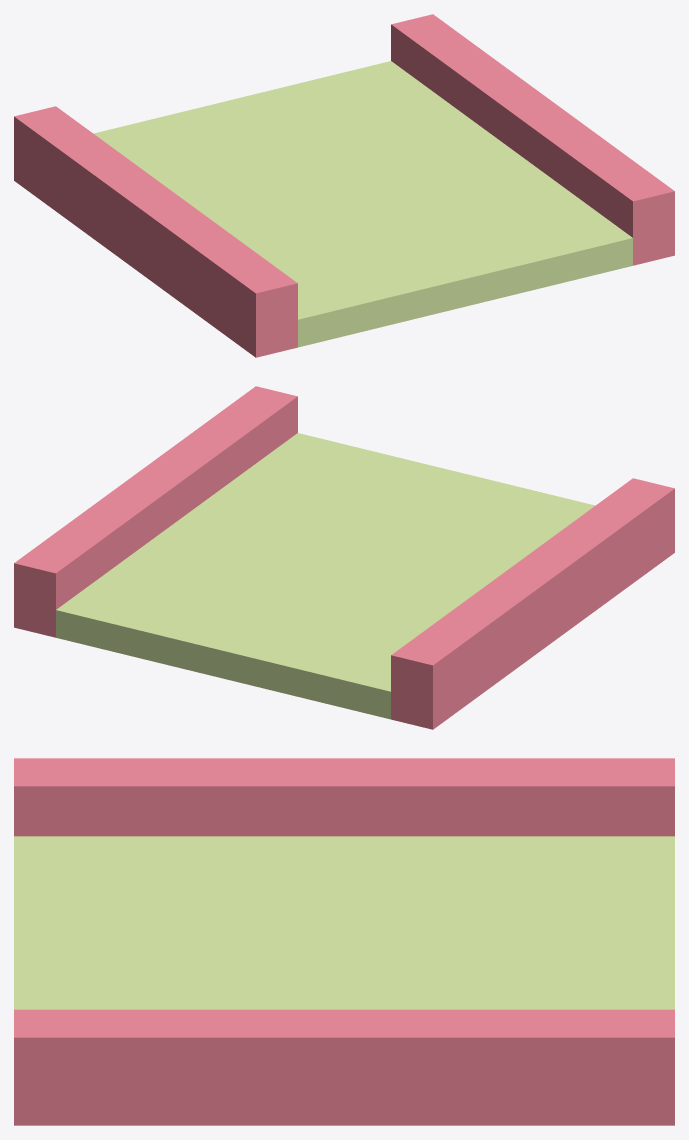
Rendered from straight.fbx.
The picture shows the model from 3 angles, top to bottom: view 1: azimuth 30°, elevation 25°; view 2: azimuth 150°, elevation 25°; view 3: azimuth 270°, elevation 25°; orthographic projection. The views are drawn at different scales.
Parts seen in each view (by area): view 1: straight; view 2: straight; view 3: straight.
Boxes of the visible parts, bbox=[...] form: straight: bbox=[14, 14, 674, 357]; straight: bbox=[14, 386, 674, 729]; straight: bbox=[14, 758, 674, 1125].
Bounding box in the file's own units: 99.99 × 14.67 × 99.99.
